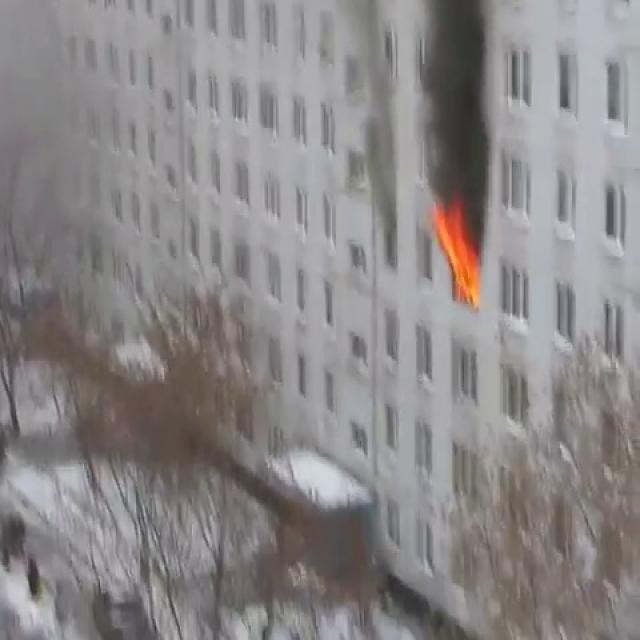Fire: (430, 194, 482, 308)
Smoke: (400, 0, 512, 224)
